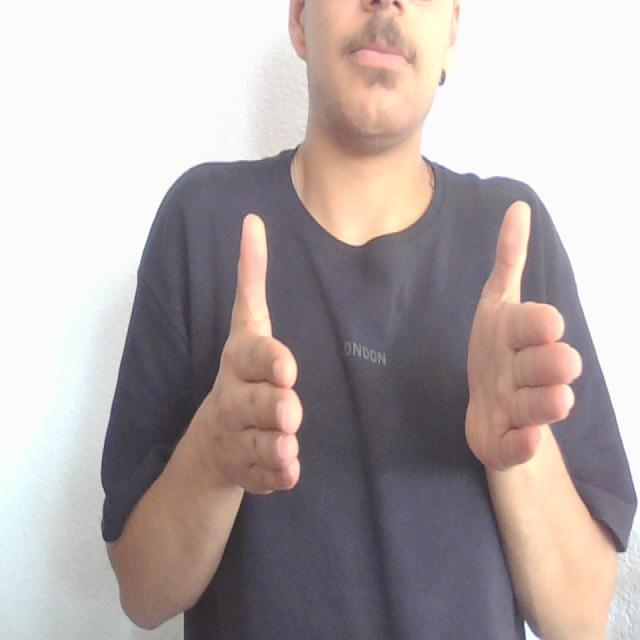Nasil: (206, 187, 590, 510)
